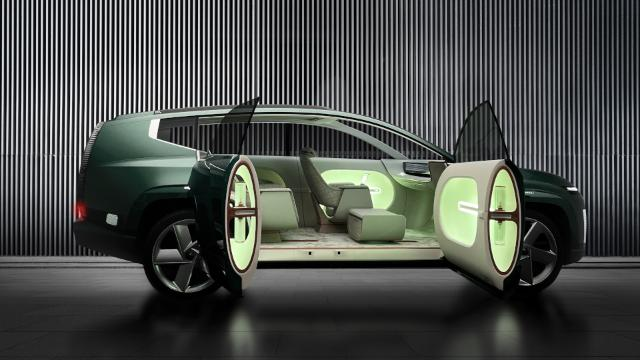hyundai: (71, 97, 587, 301)
